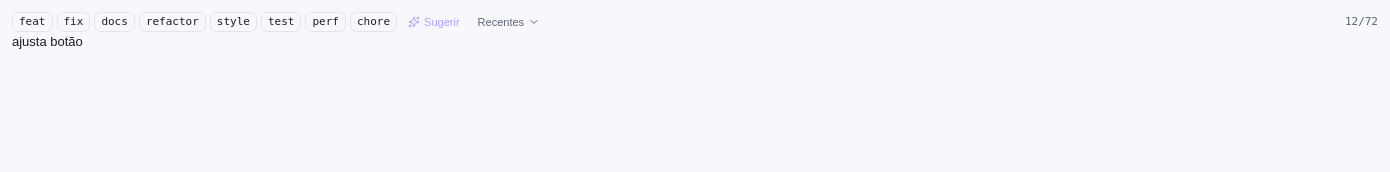
Test: CommitAssist › chips set the type and mark the active one
Click the button "fix": coordinates (73, 22) x1=56 y1=12 x2=90 y2=32
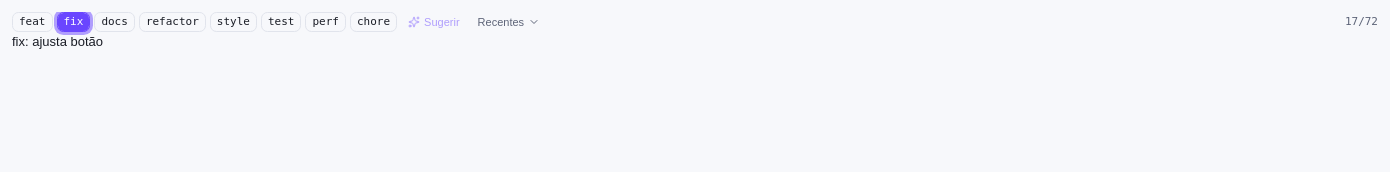
Result: the text with test id "msg" reads "fix: ajusta botão" at x1=12 y1=34 x2=103 y2=49
Click the button "feat": coordinates (32, 22) x1=12 y1=12 x2=52 y2=32
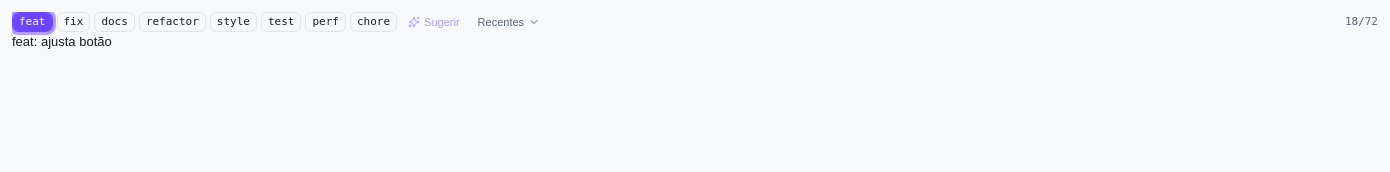
Result: the text with test id "msg" reads "feat: ajusta botão" at x1=12 y1=34 x2=112 y2=49
